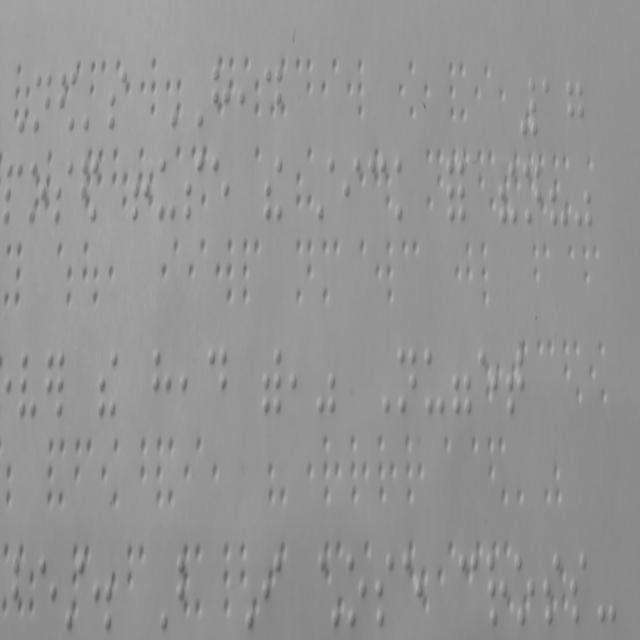braiile: (456, 544, 482, 630), (344, 544, 368, 634), (372, 544, 396, 634), (484, 546, 509, 628), (512, 546, 536, 630), (400, 548, 424, 631), (538, 544, 562, 627), (204, 342, 228, 422), (175, 548, 198, 631), (260, 548, 283, 631), (11, 546, 34, 628), (182, 152, 206, 230), (391, 152, 415, 230), (502, 338, 525, 419), (16, 342, 38, 426), (421, 341, 445, 418), (150, 342, 173, 422), (568, 544, 590, 627), (0, 157, 24, 231), (36, 548, 57, 632), (478, 344, 500, 422), (52, 155, 76, 226), (208, 61, 232, 131), (564, 75, 588, 143), (262, 59, 284, 132), (209, 152, 231, 225), (521, 157, 544, 226), (31, 70, 53, 142), (397, 344, 418, 419), (28, 156, 48, 234), (368, 150, 388, 228), (343, 154, 364, 228), (108, 66, 128, 137), (157, 153, 177, 224), (540, 76, 561, 140)
